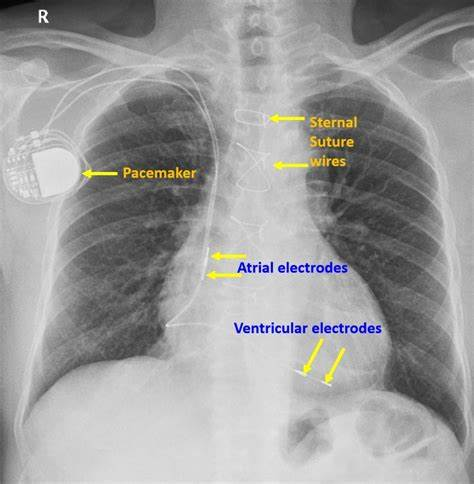telestration: (310, 117, 360, 170), (231, 319, 384, 335), (238, 257, 350, 276), (120, 165, 196, 184), (321, 346, 346, 384), (301, 339, 326, 370), (79, 167, 119, 178), (271, 112, 305, 124), (274, 160, 312, 170), (199, 272, 246, 279), (210, 252, 249, 259)
